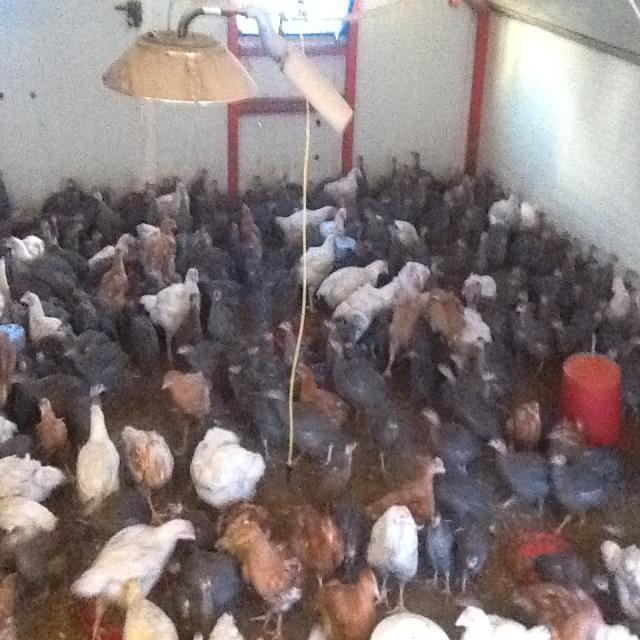poussin: (56, 517, 196, 624), (210, 511, 304, 639), (507, 570, 613, 640), (300, 565, 398, 640), (474, 427, 554, 513), (374, 453, 448, 541), (364, 504, 421, 614), (194, 422, 266, 508), (339, 259, 426, 329), (56, 316, 125, 402), (546, 445, 611, 536), (411, 510, 472, 605), (278, 499, 343, 582), (175, 531, 242, 609), (416, 400, 484, 476), (11, 368, 91, 426), (590, 538, 640, 630), (124, 434, 177, 519), (302, 260, 391, 310), (330, 332, 380, 419), (0, 439, 69, 502), (80, 396, 119, 506), (444, 338, 511, 402), (272, 381, 323, 460), (424, 476, 507, 524), (147, 264, 207, 330), (381, 284, 433, 358), (447, 601, 545, 640), (14, 288, 64, 364), (538, 550, 610, 602), (452, 516, 502, 590), (129, 220, 188, 280), (148, 373, 214, 426), (176, 326, 236, 384), (313, 428, 361, 499), (299, 364, 348, 431), (280, 240, 340, 294), (174, 283, 214, 364), (424, 288, 476, 350), (0, 492, 58, 546), (229, 172, 300, 216), (122, 582, 174, 640), (334, 498, 370, 578), (121, 313, 170, 371), (432, 357, 472, 428), (403, 319, 438, 398), (168, 228, 222, 276), (382, 150, 432, 199), (457, 282, 495, 344), (449, 166, 491, 220), (508, 398, 542, 464), (518, 298, 552, 364), (32, 396, 68, 458), (320, 166, 366, 214), (0, 316, 23, 410), (517, 226, 562, 274), (190, 163, 222, 228), (276, 201, 332, 238), (240, 204, 268, 274), (380, 218, 424, 262), (98, 243, 126, 310), (154, 176, 192, 224), (92, 190, 128, 240), (8, 223, 46, 270), (227, 358, 254, 424), (486, 218, 516, 274), (592, 253, 626, 301), (238, 336, 266, 392), (274, 316, 306, 365), (362, 206, 390, 262), (550, 417, 586, 460), (550, 308, 582, 356), (571, 234, 606, 276), (461, 226, 489, 278), (69, 272, 98, 322), (372, 416, 404, 461), (585, 302, 610, 359), (86, 226, 116, 273), (0, 246, 15, 338), (610, 277, 638, 324), (488, 191, 524, 227), (31, 210, 68, 244), (126, 178, 154, 222), (535, 255, 559, 305), (214, 284, 236, 336), (58, 204, 88, 242), (613, 330, 640, 372), (218, 214, 240, 261), (317, 202, 347, 235), (469, 270, 499, 303), (52, 175, 90, 201), (260, 323, 277, 375), (570, 275, 590, 313), (522, 193, 540, 229)
